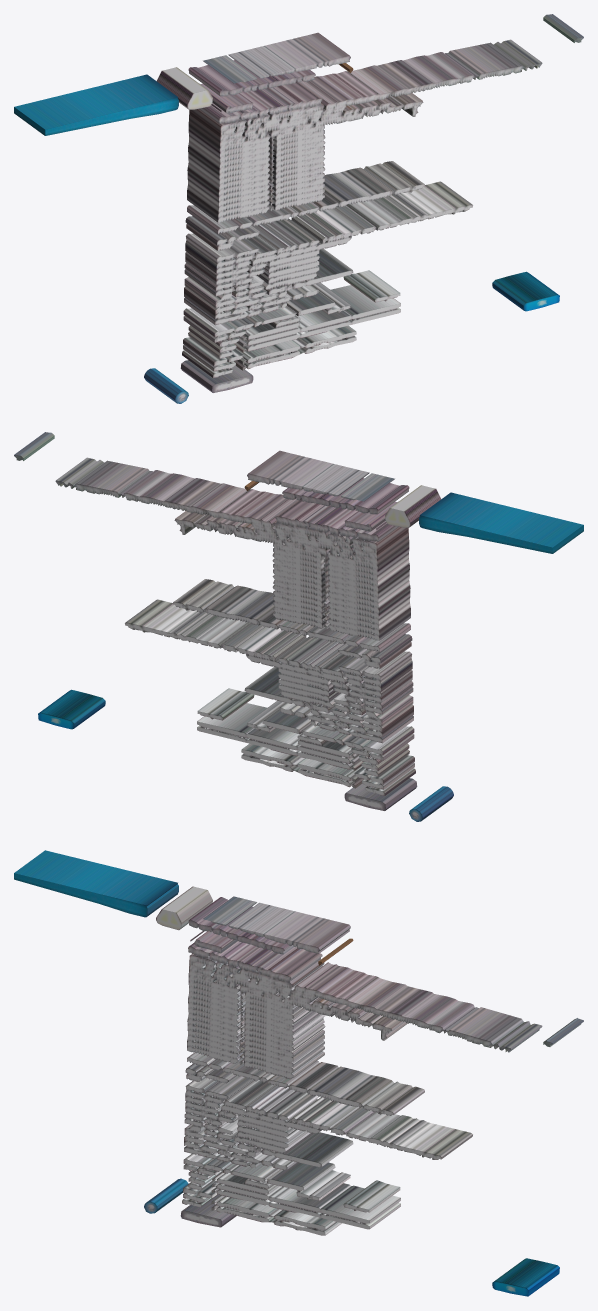
Rendered from Builder20220303225441.obj.
The picture shows the model from 3 angles, top to bottom: view 1: azimuth 30°, elevation 25°; view 2: azimuth 150°, elevation 25°; view 3: azimuth 330°, elevation 25°; orthographic projection.
Visible parts, largest first — view 1: Object.20, Object.30, Object.34, Object.5, Object.28, Object.32, Object.15, Object.10, Object.16, Object.3, Object.6, Object.1 (+8 smaller); view 2: Object.20, Object.30, Object.34, Object.5, Object.28, Object.32, Object.15, Object.10, Object.16, Object.3, Object.6, Object.1 (+8 smaller); view 3: Object.20, Object.30, Object.34, Object.5, Object.28, Object.32, Object.15, Object.10, Object.33, Object.3, Object.16, Object.6 (+5 smaller).
Boxes of the visible parts, left/top/right/bottom form: Object.20: left=187, top=39, right=542, bottom=222; Object.30: left=184, top=205, right=376, bottom=325; Object.34: left=183, top=285, right=400, bottom=358; Object.5: left=14, top=74, right=178, bottom=135; Object.28: left=231, top=161, right=424, bottom=229; Object.32: left=346, top=181, right=472, bottom=230; Object.15: left=239, top=32, right=350, bottom=76; Object.10: left=235, top=325, right=356, bottom=369; Object.16: left=188, top=60, right=315, bottom=96; Object.3: left=492, top=271, right=559, bottom=311; Object.6: left=157, top=67, right=212, bottom=109; Object.1: left=180, top=360, right=253, bottom=392; Object.20: left=55, top=457, right=410, bottom=640; Object.30: left=221, top=623, right=413, bottom=743; Object.34: left=197, top=703, right=414, bottom=776; Object.5: left=419, top=492, right=583, bottom=553; Object.28: left=173, top=579, right=366, bottom=647; Object.32: left=125, top=599, right=251, bottom=648; Object.15: left=247, top=450, right=358, bottom=494; Object.10: left=241, top=743, right=362, bottom=787; Object.16: left=282, top=478, right=409, bottom=514; Object.3: left=38, top=689, right=105, bottom=729; Object.6: left=385, top=485, right=440, bottom=527; Object.1: left=344, top=778, right=417, bottom=810; Object.20: left=187, top=941, right=542, bottom=1079; Object.30: left=184, top=1075, right=375, bottom=1170; Object.34: left=183, top=1154, right=400, bottom=1229; Object.5: left=14, top=850, right=178, bottom=917; Object.28: left=208, top=1059, right=424, bottom=1115; Object.32: left=346, top=1112, right=472, bottom=1159; Object.15: left=239, top=905, right=350, bottom=953; Object.10: left=216, top=1196, right=341, bottom=1235; Object.33: left=267, top=1162, right=350, bottom=1200; Object.3: left=492, top=1258, right=559, bottom=1296; Object.16: left=188, top=897, right=293, bottom=954; Object.6: left=156, top=886, right=212, bottom=930.
Bounding box in the file's own units: 245 × 133 × 24.51.
Materials: 1 (1 with a texture image).
